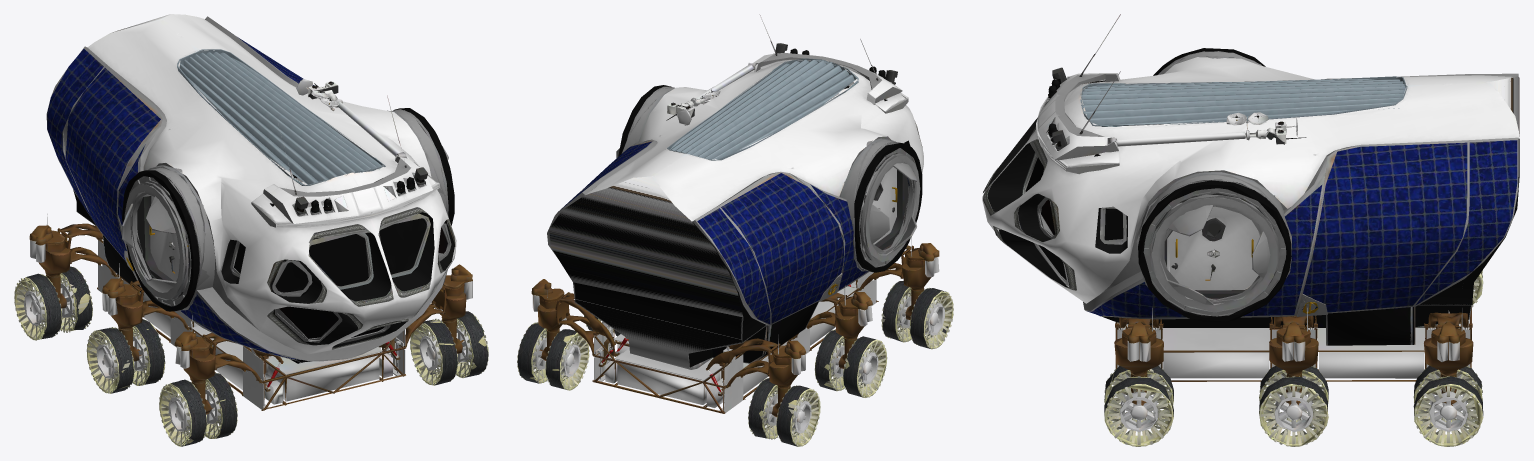
File: sev.glb
The picture shows the model from 3 angles, left to right: view 1: azimuth 30°, elevation 25°; view 2: azimuth 150°, elevation 25°; view 3: azimuth 270°, elevation 25°; orthographic projection. The views are drawn at different scales.
Visible parts, largest first — view 1: MMSEV; view 2: MMSEV; view 3: MMSEV.
Boxes of the visible parts, x1,y1,x2,y2 form: MMSEV: (14,14,488,446); MMSEV: (517,14,953,446); MMSEV: (982,14,1519,446).
Size of the model in its own units: 4.04 by 3.97 by 5.91.
Materials: 1 (1 with a texture image).
